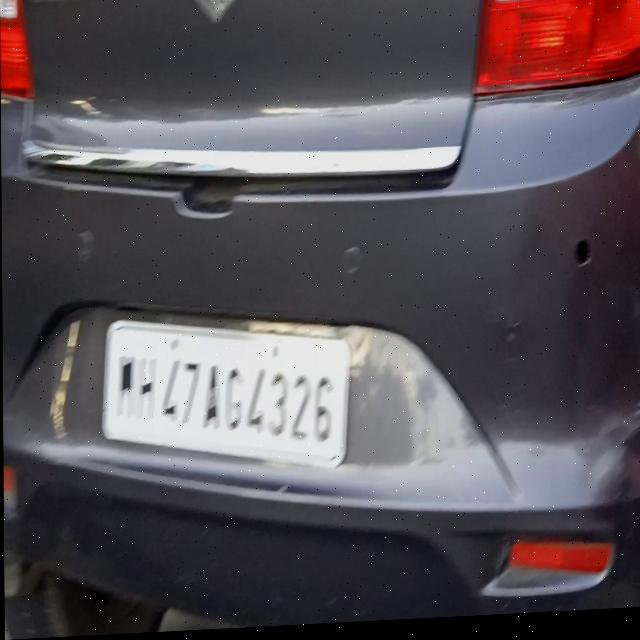plate: (101, 310, 351, 482)
